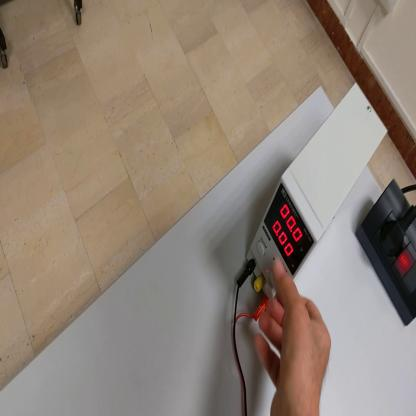hand: (256, 257, 333, 416)
power supply: (246, 84, 387, 302)
socket: (357, 183, 416, 328)
